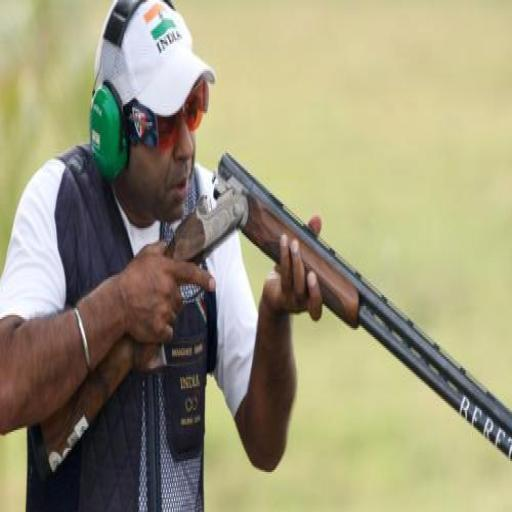shooting: (0, 0, 327, 510)
